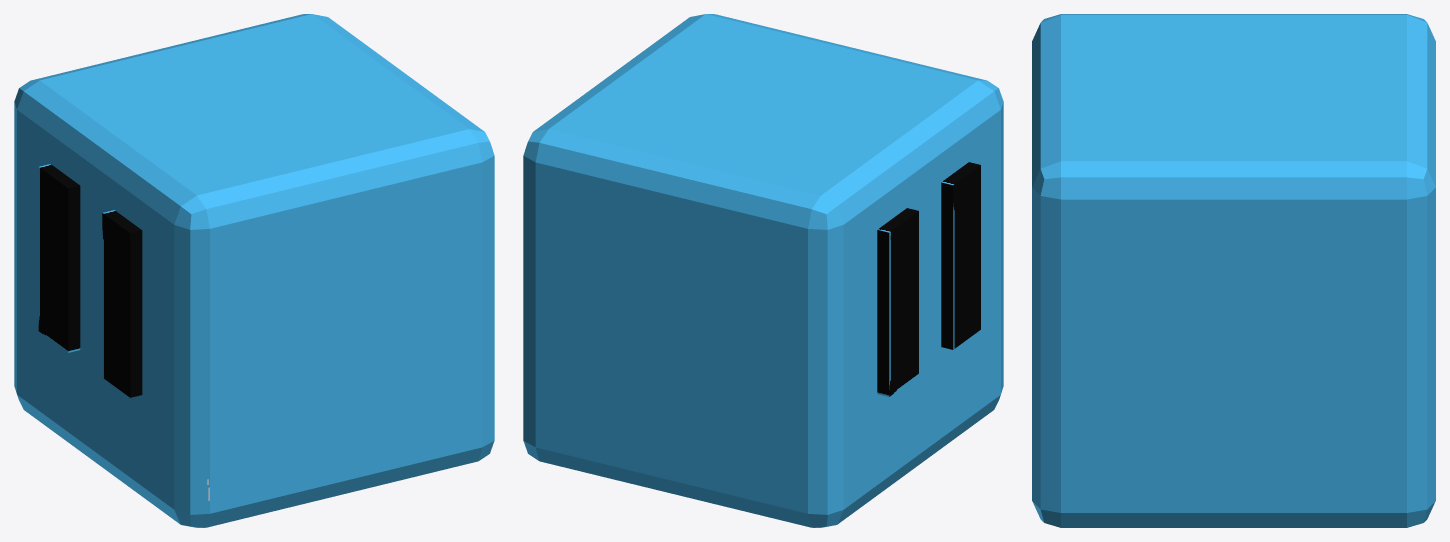
Rendered from cube-guy.glb.
3 renders of one model, left to right at view 1: azimuth 30°, elevation 25°; view 2: azimuth 150°, elevation 25°; view 3: azimuth 270°, elevation 25°, orthographic. The views are drawn at different scales.
Visible parts, largest first — view 1: Cube; view 2: Cube; view 3: Cube.
Boxes of the visible parts, x1,y1,x2,y2 form: Cube: (14, 14, 494, 527); Cube: (523, 14, 1003, 527); Cube: (1032, 14, 1435, 527).
Bounding box in the file's own units: 2.08 × 2 × 2.
1 material, 1 textured.
